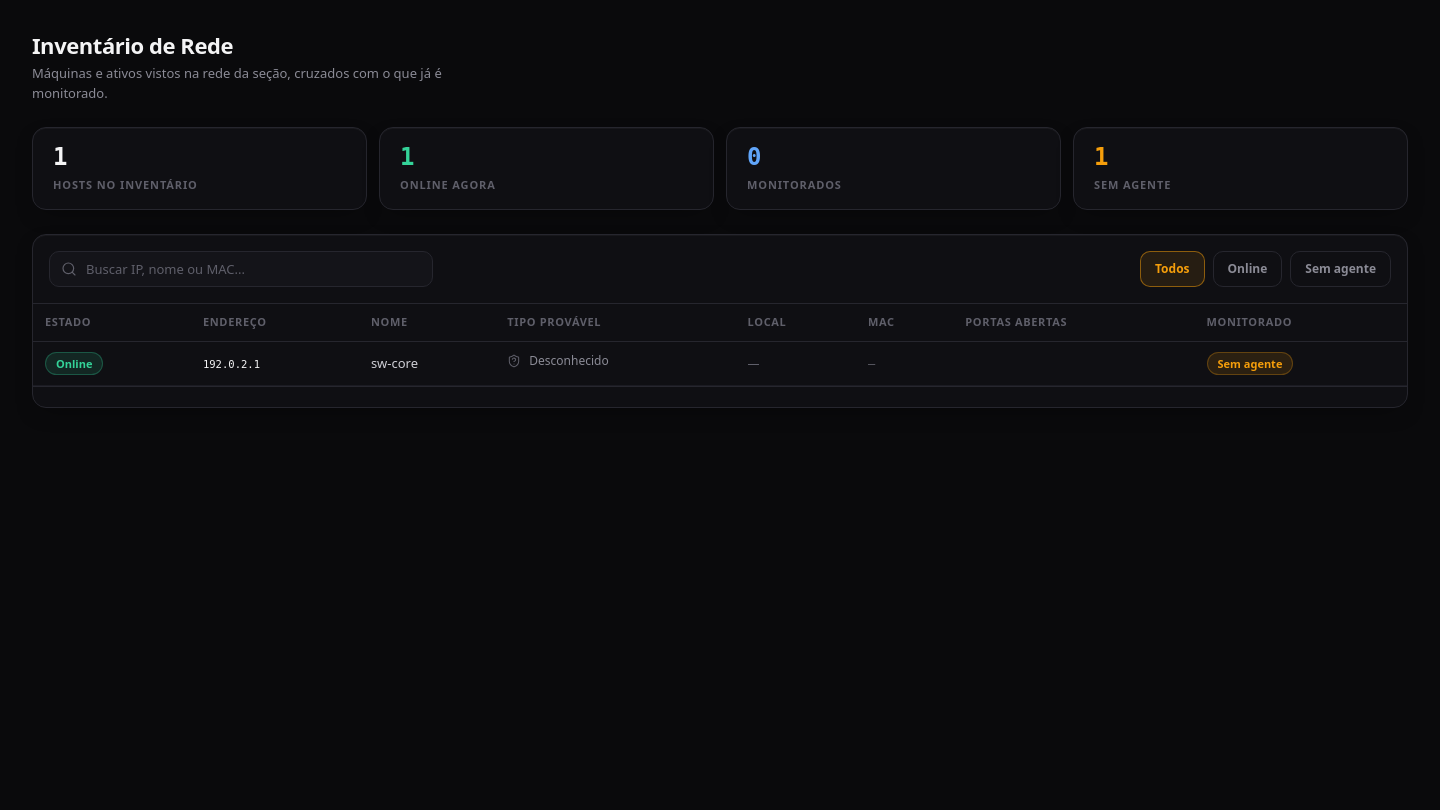
Scenario: NetworkView — aba Interfaces › host sem SNMP não ganha a aba nem a marca
Click the button named "Ver detalhe de 192.0.2.1": {"x": 232, "y": 365} [203,357,260,373]
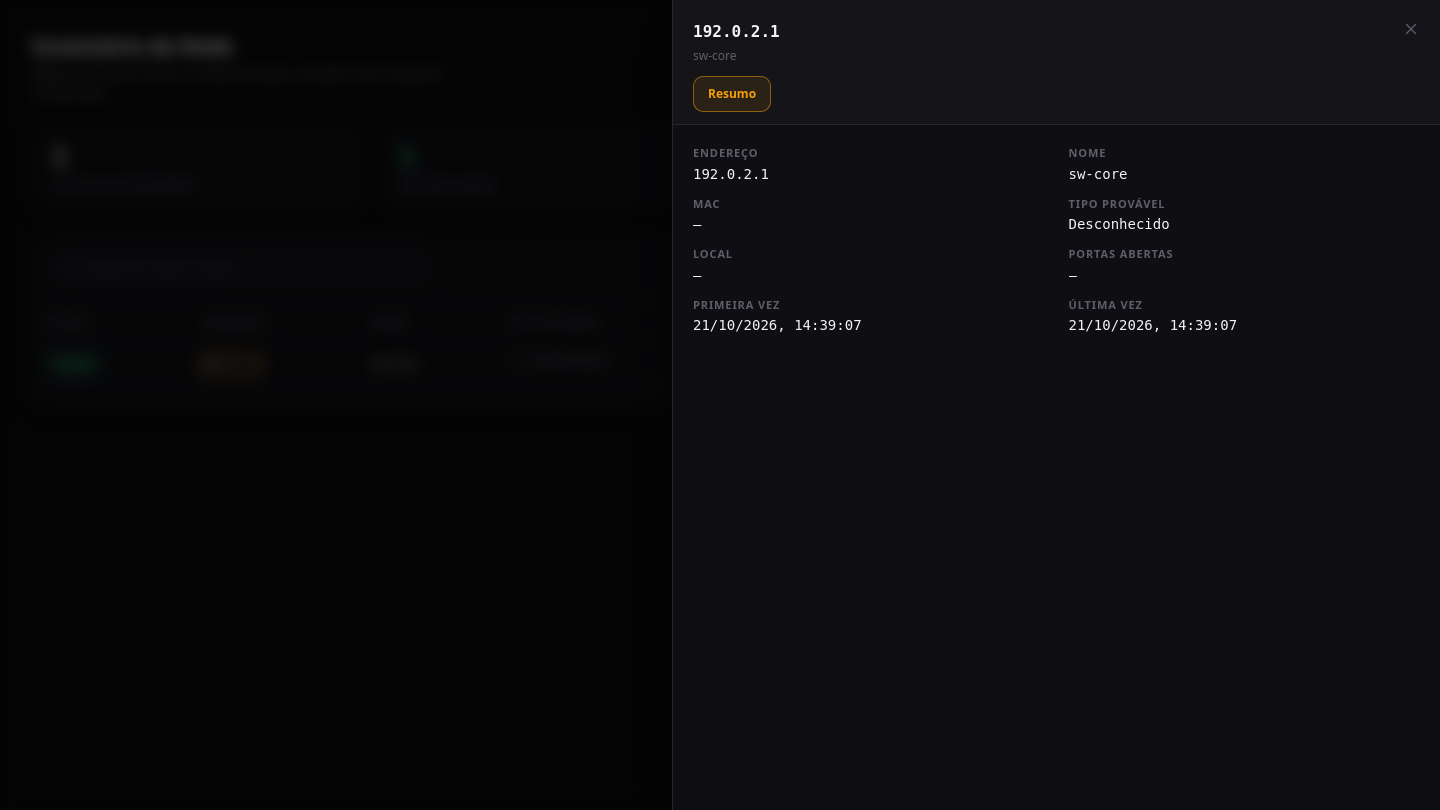
Check: the tab "Resumo" is shown, box [693,76,771,112]
